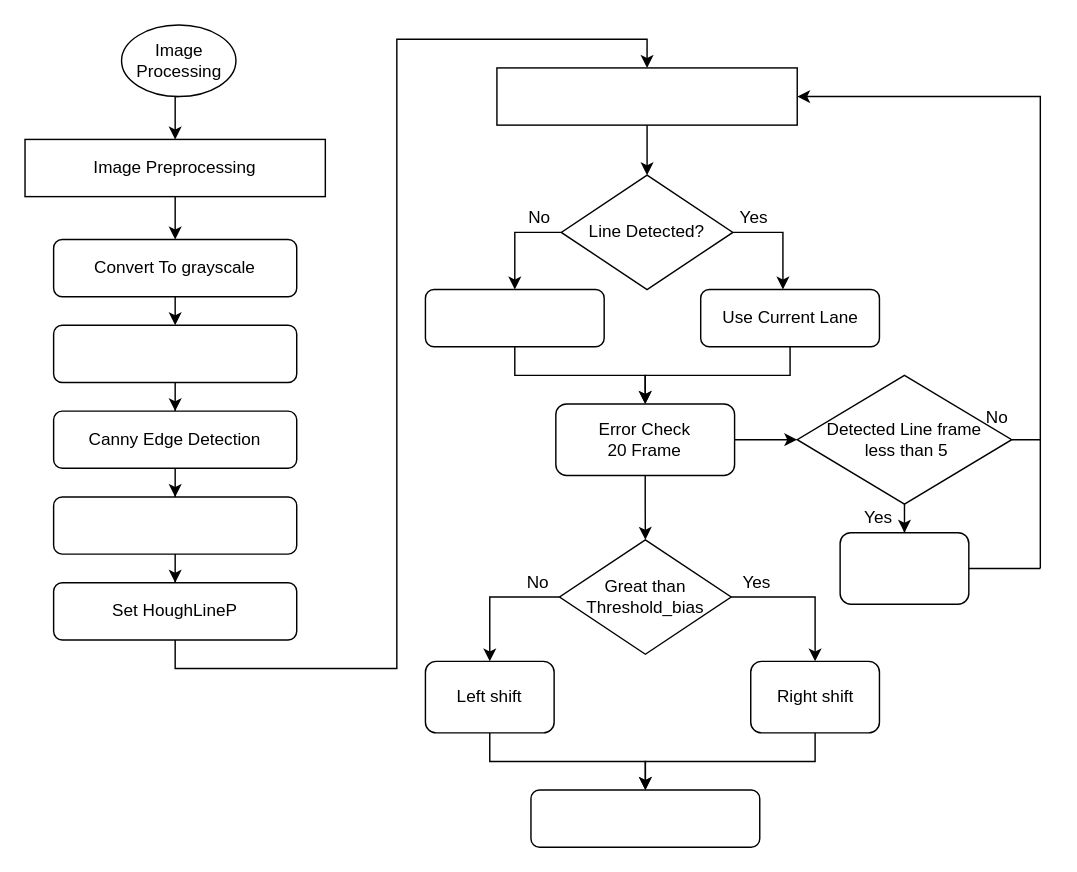
Some shapes in this 1077 by 872 pixel diagram are drawn without their labels. The shapes that lost their labels are listed below. From the top down, each one's centre as x and y in pixels, then its label:
At point 646,95: "Line Classification".
At point 514,317: "Use Previous Lane".
At point 174,353: "Gaussian Filter".
At point 174,524: "Apply ROI".
At point 904,567: "Dangerous Sign".
At point 645,818: "Warning Sign".
